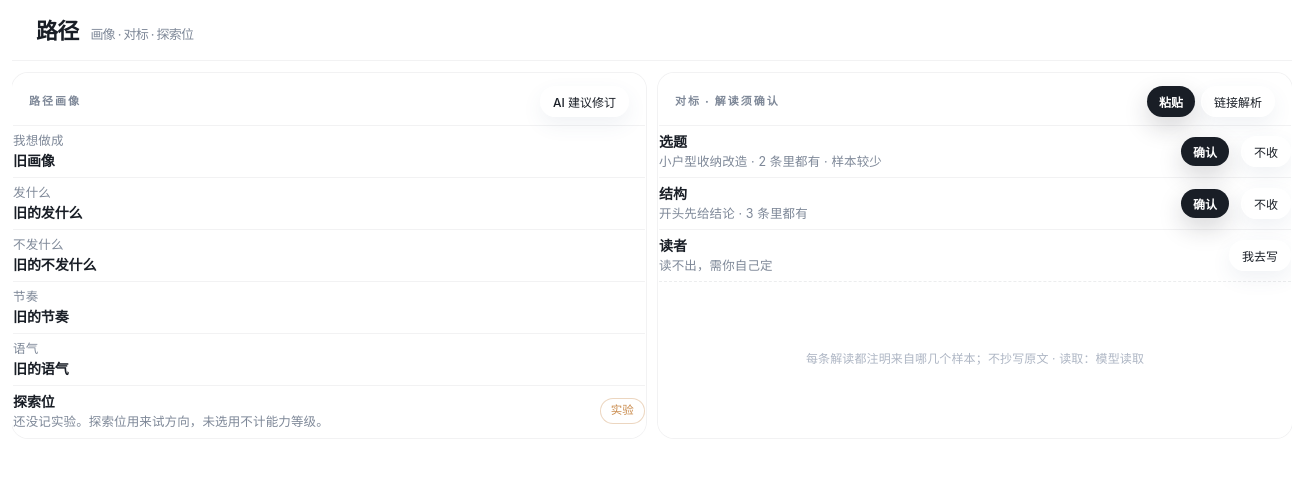
Scenario: PathPage › saves 不发什么 into the avoid path-profile field
Click the text "旧的不发什么": (55, 265) [13, 256, 96, 273]
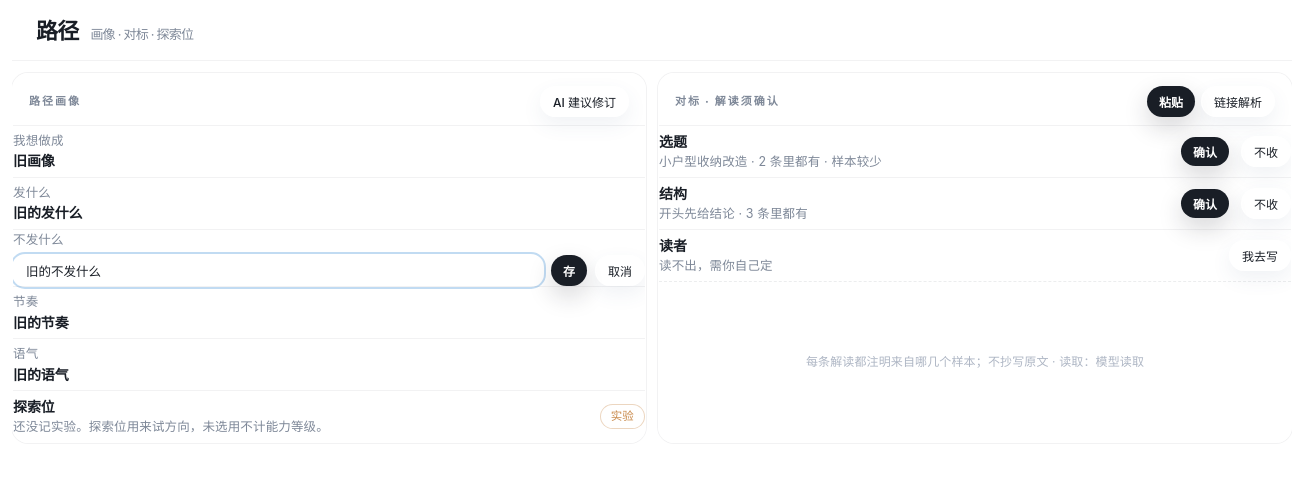
Replace the text in the field named "不发什么" with "焦虑贩卖 · 假科学": (278, 271) [13, 255, 543, 286]
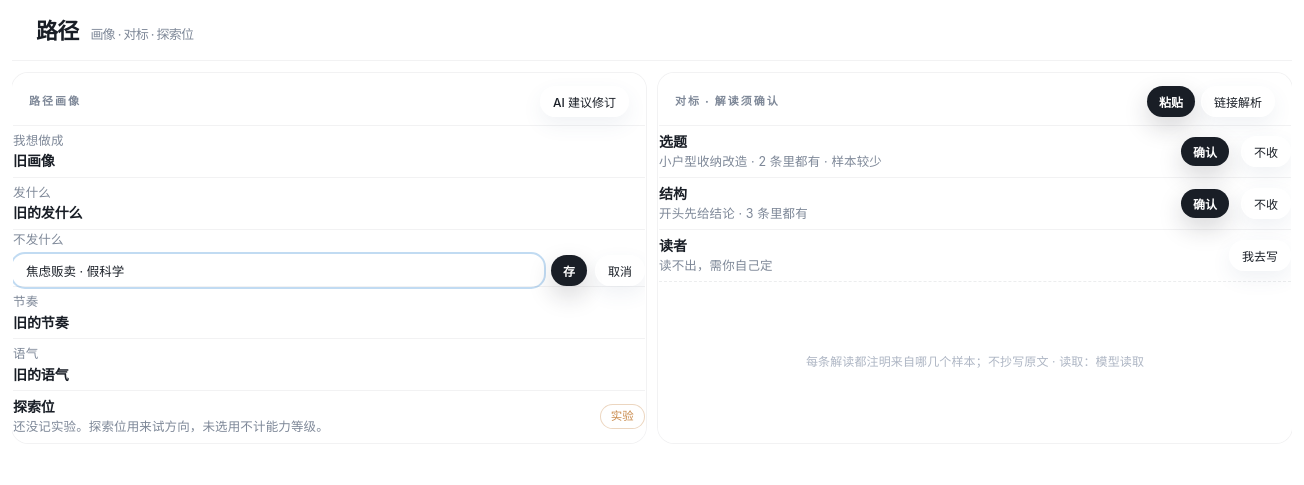
Click the button "存": (569, 271) [551, 255, 587, 286]
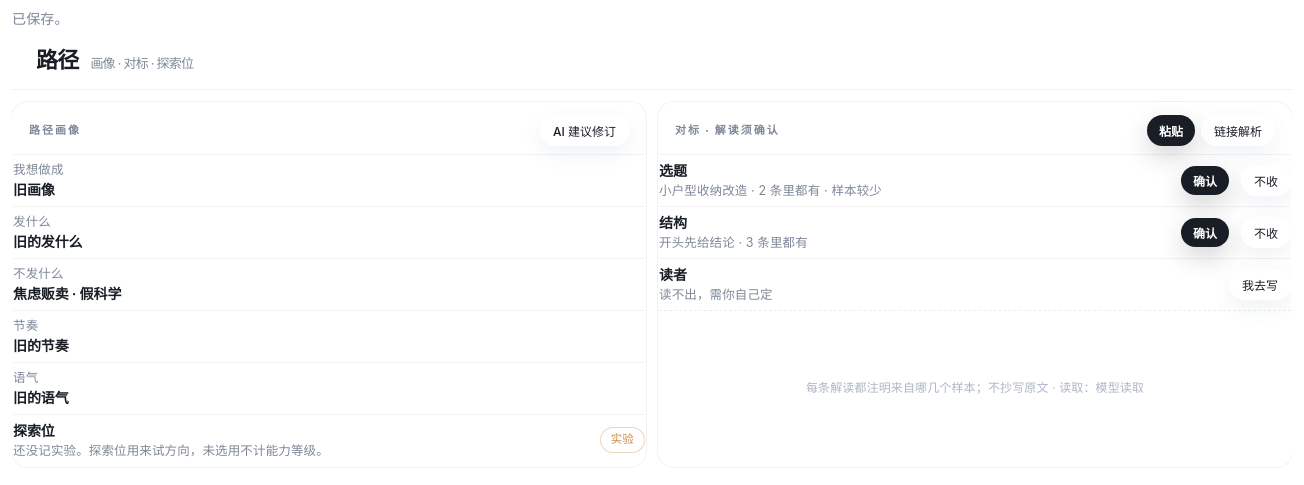
Result: the text "已保存。" is shown at [12, 10, 68, 27]
Result: the text "焦虑贩卖 · 假科学" is shown at [13, 285, 121, 302]
